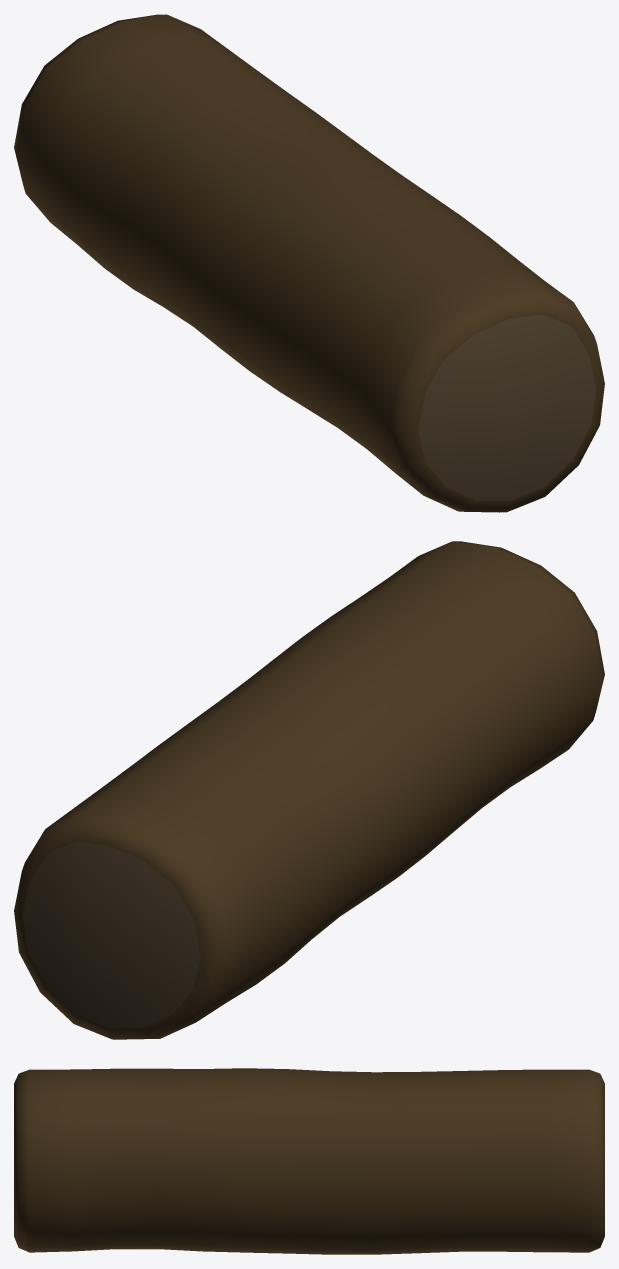
Rendered from firewood-1.fbx.
The picture shows the model from 3 angles, top to bottom: view 1: azimuth 30°, elevation 25°; view 2: azimuth 150°, elevation 25°; view 3: azimuth 270°, elevation 25°; orthographic projection. The views are drawn at different scales.
Visible parts, largest first — view 1: Timber; view 2: Timber; view 3: Timber.
Part boxes in pixels (x1,y1,x2,y2): Timber: (14, 14, 604, 512); Timber: (14, 541, 604, 1039); Timber: (14, 1068, 604, 1254).
Size of the model in its own units: 15.82 by 15.47 by 50.
